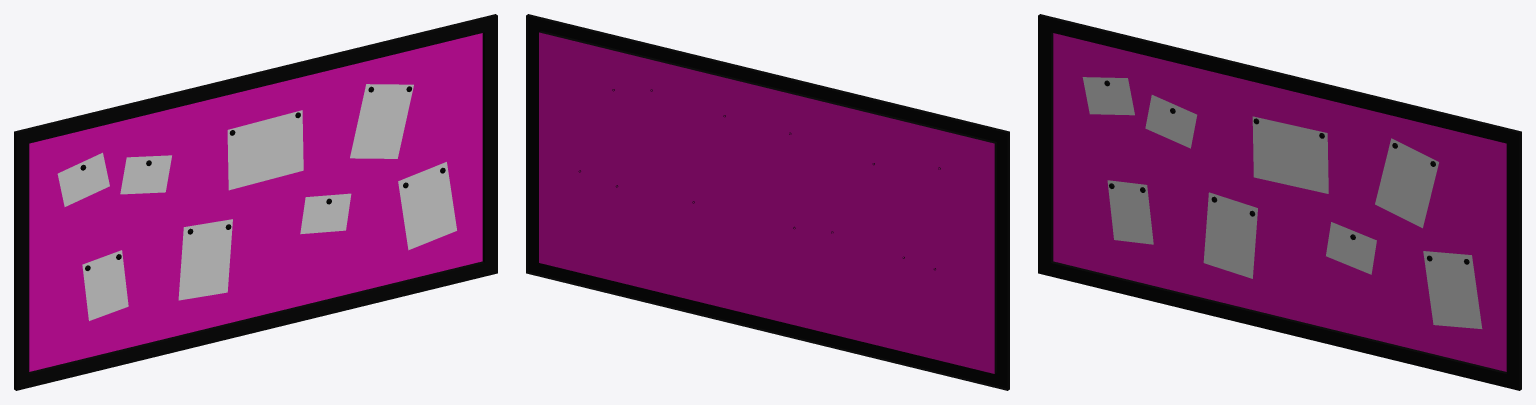
Rendered from Board_1.fbx.
3 views of the same model, side by side, from view 1: azimuth 30°, elevation 25°; view 2: azimuth 150°, elevation 25°; view 3: azimuth 330°, elevation 25° (orthographic).
Visible parts, largest first — view 1: Plane.006; view 2: Plane.006; view 3: Plane.006.
Boxes of the visible parts, x1,y1,x2,y2 form: Plane.006: (14, 14, 497, 390); Plane.006: (526, 14, 1009, 390); Plane.006: (1038, 14, 1521, 390).
Bounding box in the file's own units: 274 × 140 × 2.52.
